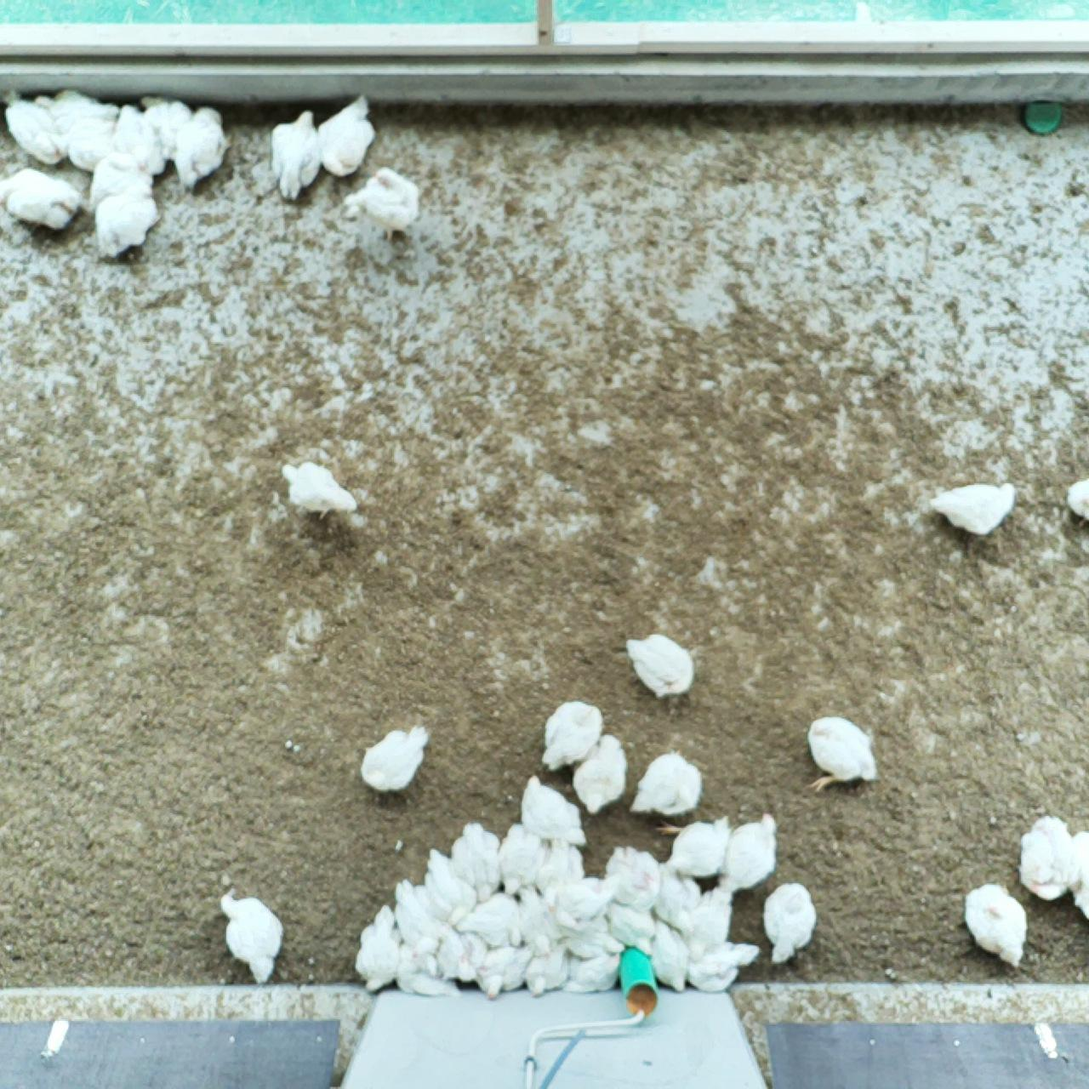chicken: (797, 713, 885, 795), (960, 880, 1033, 975), (218, 889, 286, 988), (344, 164, 425, 242), (620, 627, 700, 704), (169, 101, 234, 194), (626, 744, 705, 820), (654, 810, 736, 883), (927, 475, 1017, 541), (517, 772, 590, 851), (266, 106, 326, 202), (277, 454, 359, 523), (758, 879, 821, 968), (1015, 809, 1073, 904), (720, 805, 780, 896), (537, 695, 607, 773), (94, 182, 159, 265), (358, 723, 431, 796), (0, 88, 66, 168), (0, 165, 79, 231), (316, 92, 375, 180), (570, 731, 629, 817), (111, 101, 171, 185), (445, 818, 504, 902), (352, 900, 403, 992), (86, 142, 151, 214), (681, 884, 734, 970), (137, 93, 195, 170), (389, 872, 442, 956), (687, 941, 766, 996), (421, 845, 476, 924), (454, 889, 523, 950), (605, 839, 662, 912), (648, 857, 700, 936), (497, 821, 548, 899), (392, 943, 460, 1001), (432, 920, 490, 984), (644, 918, 692, 995), (602, 897, 660, 957), (477, 943, 533, 1003), (54, 117, 117, 170), (513, 882, 557, 956), (30, 88, 120, 124), (535, 836, 589, 895), (554, 872, 621, 919), (560, 952, 624, 995), (563, 915, 623, 959), (521, 946, 570, 999), (1066, 829, 1089, 918), (1058, 475, 1089, 532)
